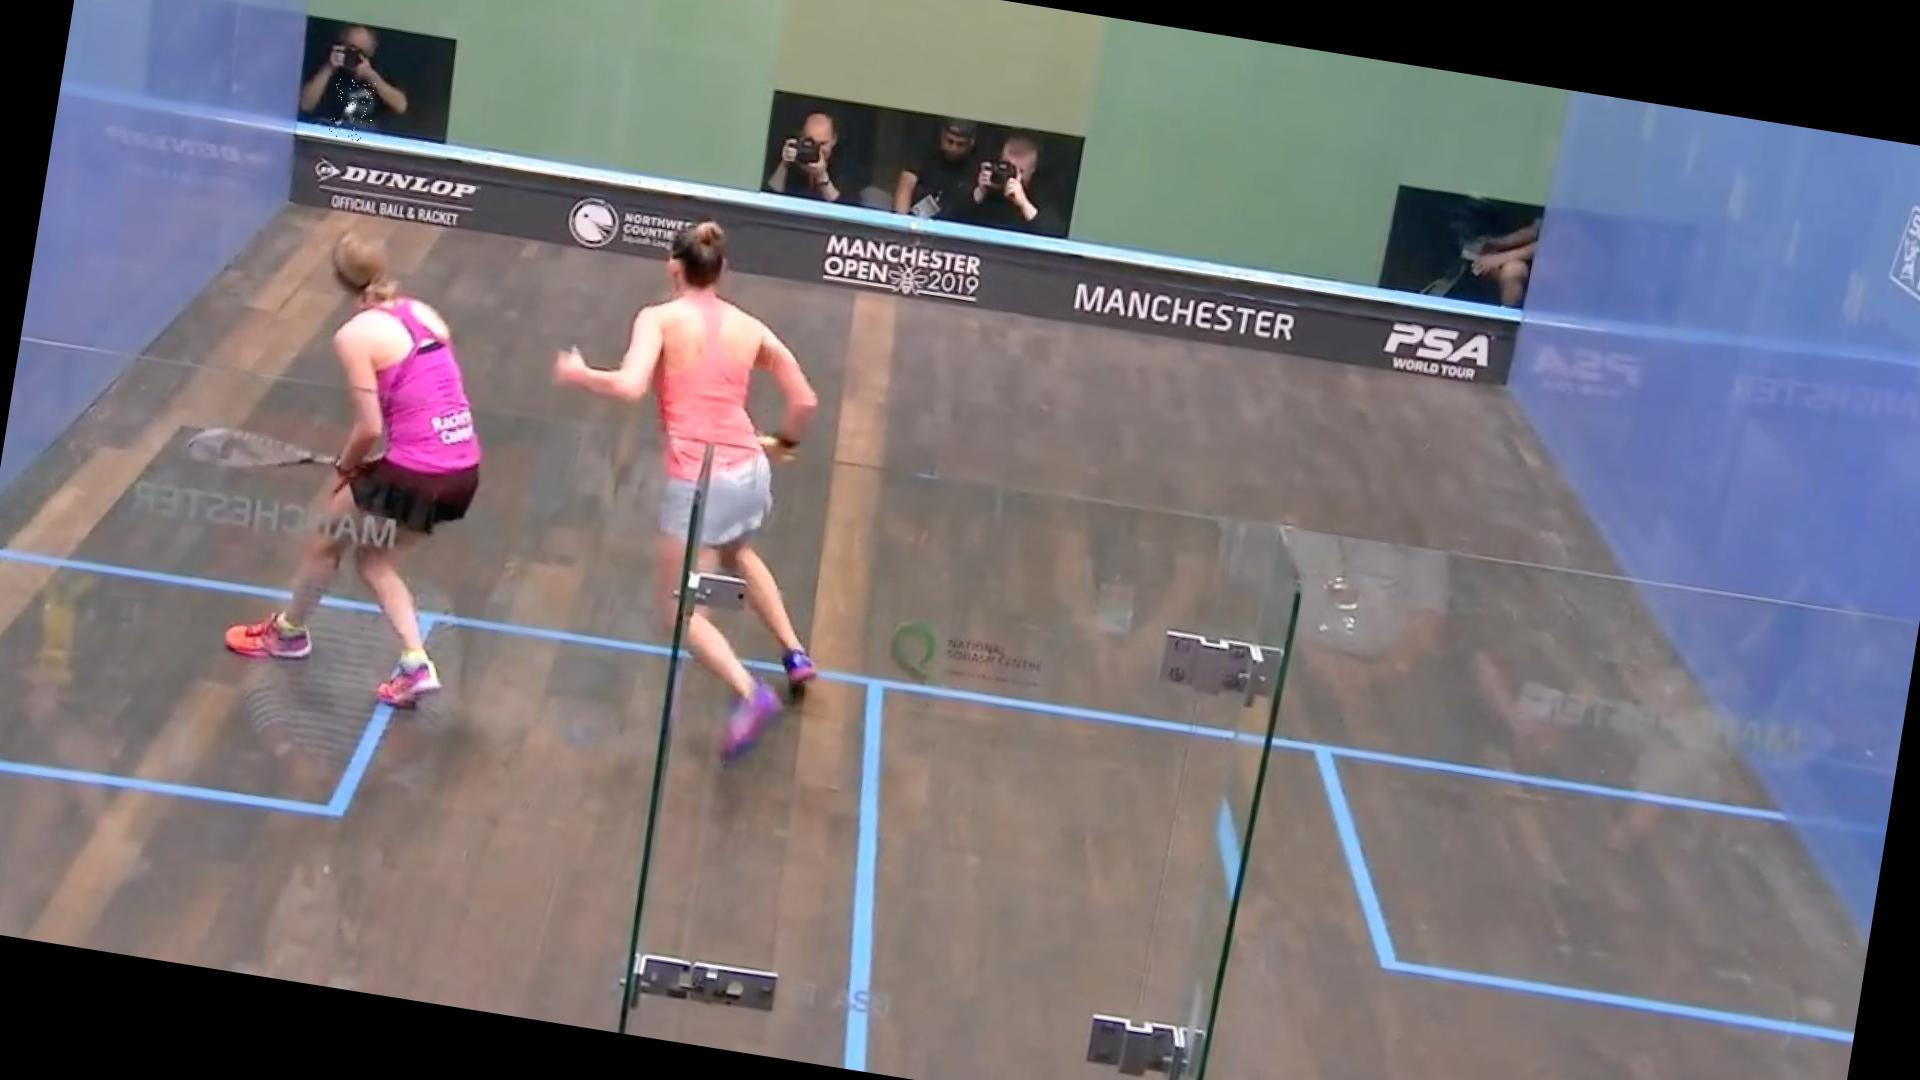Squash-Ball: (327, 76, 377, 145)
